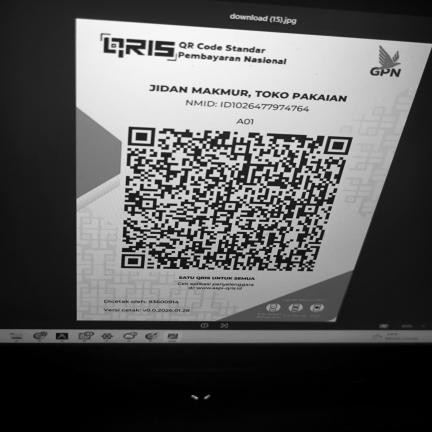Qris-Positioning: (76, 19, 431, 324)
